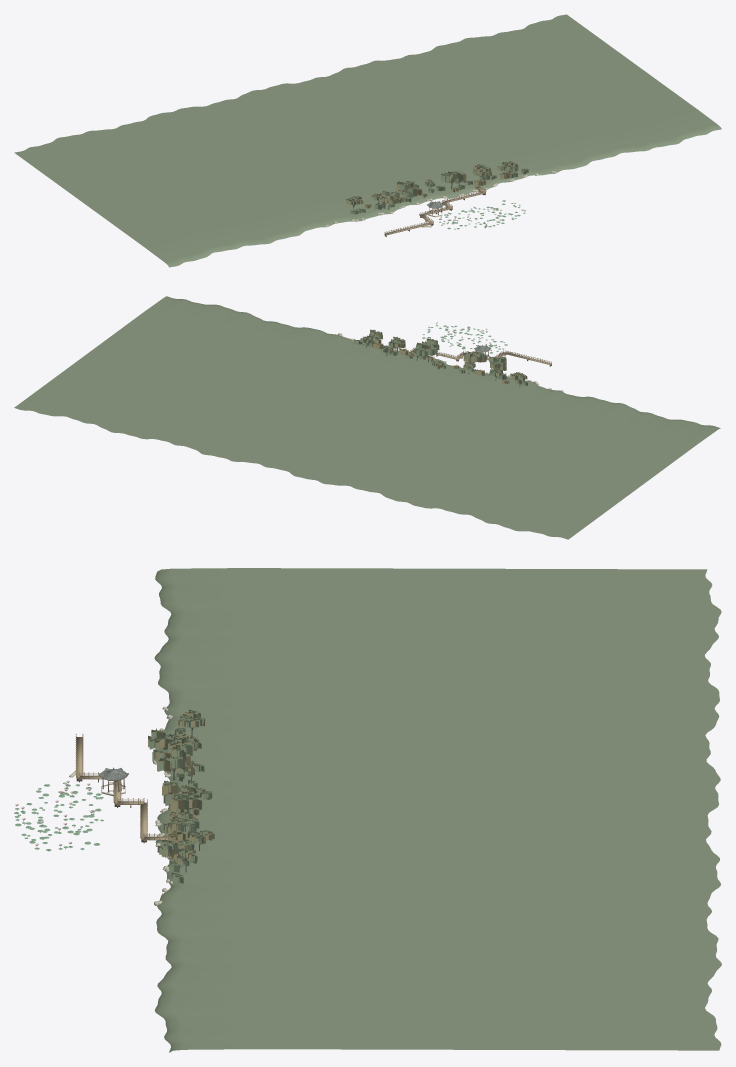
File: lotus-breeze.glb
The picture shows the model from 3 angles, top to bottom: view 1: azimuth 30°, elevation 25°; view 2: azimuth 150°, elevation 25°; view 3: azimuth 270°, elevation 25°; orthographic projection. The views are drawn at different scales.
Visible parts, largest first — view 1: earth, crown2, crown0, crown1, woodlight, lotusleaf; view 2: earth, crown2, crown0, crown1, woodlight, lotusleaf; view 3: earth, crown2, crown1, crown0, woodlight, lotusleaf.
Boxes of the visible parts, bbox=[...] form: earth: bbox=[14, 14, 721, 267]; crown2: bbox=[348, 162, 518, 208]; crown0: bbox=[347, 161, 518, 214]; crown1: bbox=[346, 162, 528, 212]; woodlight: bbox=[384, 185, 486, 235]; lotusleaf: bbox=[439, 200, 525, 229]; earth: bbox=[14, 296, 720, 539]; crown2: bbox=[361, 331, 527, 383]; crown0: bbox=[360, 330, 527, 385]; crown1: bbox=[353, 329, 524, 384]; woodlight: bbox=[408, 347, 551, 364]; lotusleaf: bbox=[422, 325, 507, 353]; earth: bbox=[154, 568, 721, 1052]; crown2: bbox=[148, 711, 212, 867]; crown1: bbox=[148, 711, 214, 883]; crown0: bbox=[148, 709, 212, 872]; woodlight: bbox=[75, 734, 168, 840]; lotusleaf: bbox=[14, 782, 103, 851].
Size of the model in its own units: 300 by 11.41 by 187.
